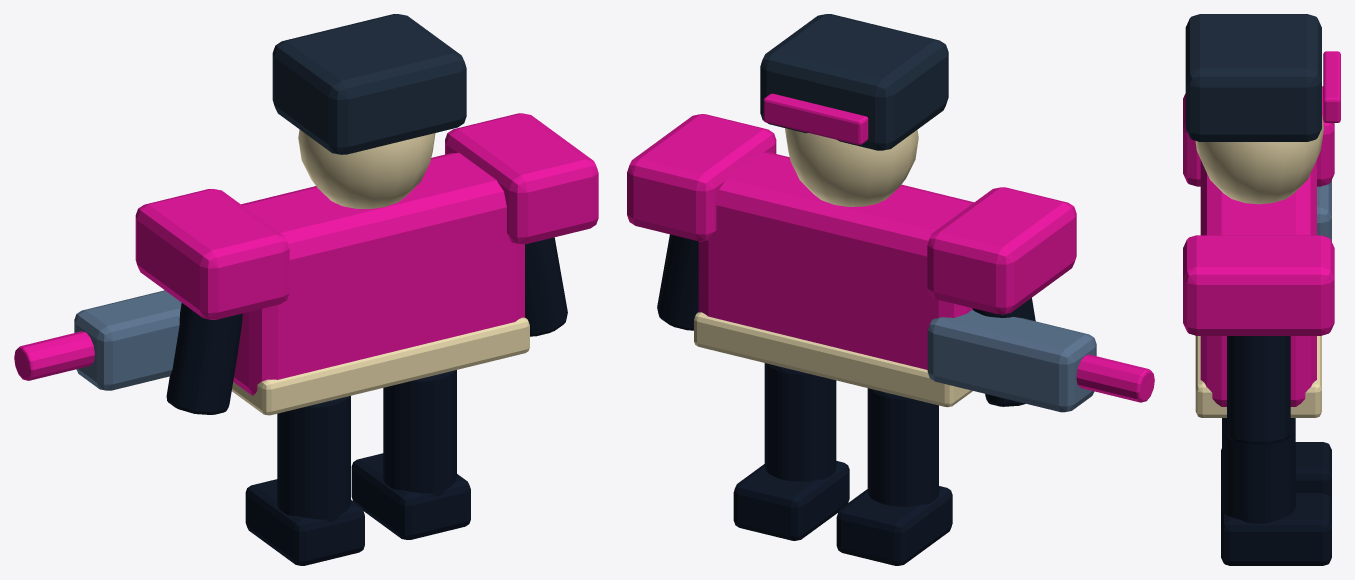
File: magenta_duelist.obj
3 views of the same model, side by side, from view 1: azimuth 30°, elevation 25°; view 2: azimuth 150°, elevation 25°; view 3: azimuth 270°, elevation 25° (orthographic). The views are drawn at different scales.
Visible parts, largest first — view 1: magenta_duelist_torso_M_magenta, magenta_duelist_helmet_M_gunmetal, magenta_duelist_shoulder_r_M_magenta, magenta_duelist_shoulder_l_M_magenta, magenta_duelist_belt_M_cream, magenta_duelist_leg_r_M_navy, magenta_duelist_leg_l_M_navy, magenta_duelist_blaster_M_steel, magenta_duelist_head_M_cream, magenta_duelist_arm_r_M_navy, magenta_duelist_boot_r_M_navy, magenta_duelist_boot_l_M_navy (+2 smaller); view 2: magenta_duelist_torso_M_magenta, magenta_duelist_helmet_M_gunmetal, magenta_duelist_shoulder_r_M_magenta, magenta_duelist_blaster_M_steel, magenta_duelist_shoulder_l_M_magenta, magenta_duelist_belt_M_cream, magenta_duelist_leg_l_M_navy, magenta_duelist_leg_r_M_navy, magenta_duelist_head_M_cream, magenta_duelist_boot_r_M_navy, magenta_duelist_boot_l_M_navy, magenta_duelist_arm_l_M_navy (+3 smaller); view 3: magenta_duelist_helmet_M_gunmetal, magenta_duelist_shoulder_l_M_magenta, magenta_duelist_torso_M_magenta, magenta_duelist_arm_l_M_navy, magenta_duelist_head_M_cream, magenta_duelist_boot_l_M_navy, magenta_duelist_leg_l_M_navy, magenta_duelist_belt_M_cream, magenta_duelist_boot_r_M_navy, magenta_duelist_shoulder_r_M_magenta, magenta_duelist_visor_M_magenta, magenta_duelist_blaster_M_steel.
Part boxes in pixels (box(x1,y1,x2,y2)): magenta_duelist_torso_M_magenta: box(233, 152, 524, 395); magenta_duelist_helmet_M_gunmetal: box(272, 14, 466, 154); magenta_duelist_shoulder_r_M_magenta: box(135, 189, 289, 319); magenta_duelist_shoulder_l_M_magenta: box(445, 113, 598, 244); magenta_duelist_belt_M_cream: box(231, 317, 529, 415); magenta_duelist_leg_r_M_navy: box(277, 396, 350, 521); magenta_duelist_leg_l_M_navy: box(383, 370, 456, 496); magenta_duelist_blaster_M_steel: box(74, 290, 181, 390); magenta_duelist_head_M_cream: box(298, 129, 435, 208); magenta_duelist_arm_r_M_navy: box(166, 303, 242, 414); magenta_duelist_boot_r_M_navy: box(245, 479, 364, 565); magenta_duelist_boot_l_M_navy: box(351, 453, 470, 539); magenta_duelist_torso_M_magenta: box(698, 152, 973, 369); magenta_duelist_helmet_M_gunmetal: box(760, 14, 948, 150); magenta_duelist_shoulder_r_M_magenta: box(927, 187, 1076, 314); magenta_duelist_blaster_M_steel: box(927, 310, 1096, 412); magenta_duelist_shoulder_l_M_magenta: box(627, 114, 776, 241); magenta_duelist_belt_M_cream: box(694, 312, 972, 407); magenta_duelist_leg_l_M_navy: box(764, 363, 836, 481); magenta_duelist_leg_r_M_navy: box(867, 388, 938, 506); magenta_duelist_head_M_cream: box(785, 128, 918, 206); magenta_duelist_boot_r_M_navy: box(836, 486, 952, 565); magenta_duelist_boot_l_M_navy: box(733, 461, 849, 540); magenta_duelist_arm_l_M_navy: box(657, 234, 698, 330); magenta_duelist_helmet_M_gunmetal: box(1185, 14, 1321, 141); magenta_duelist_shoulder_l_M_magenta: box(1183, 235, 1334, 335); magenta_duelist_torso_M_magenta: box(1200, 160, 1316, 406); magenta_duelist_arm_l_M_navy: box(1227, 336, 1290, 444); magenta_duelist_head_M_cream: box(1195, 115, 1323, 204); magenta_duelist_boot_l_M_navy: box(1221, 493, 1331, 565); magenta_duelist_leg_l_M_navy: box(1222, 418, 1295, 523); magenta_duelist_belt_M_cream: box(1195, 336, 1321, 417); magenta_duelist_boot_r_M_navy: box(1221, 442, 1331, 500); magenta_duelist_shoulder_r_M_magenta: box(1183, 86, 1334, 186); magenta_duelist_visor_M_magenta: box(1323, 51, 1340, 122); magenta_duelist_blaster_M_steel: box(1317, 180, 1331, 241).
Size of the model in its own units: 1.19 by 1.06 by 0.3125.
